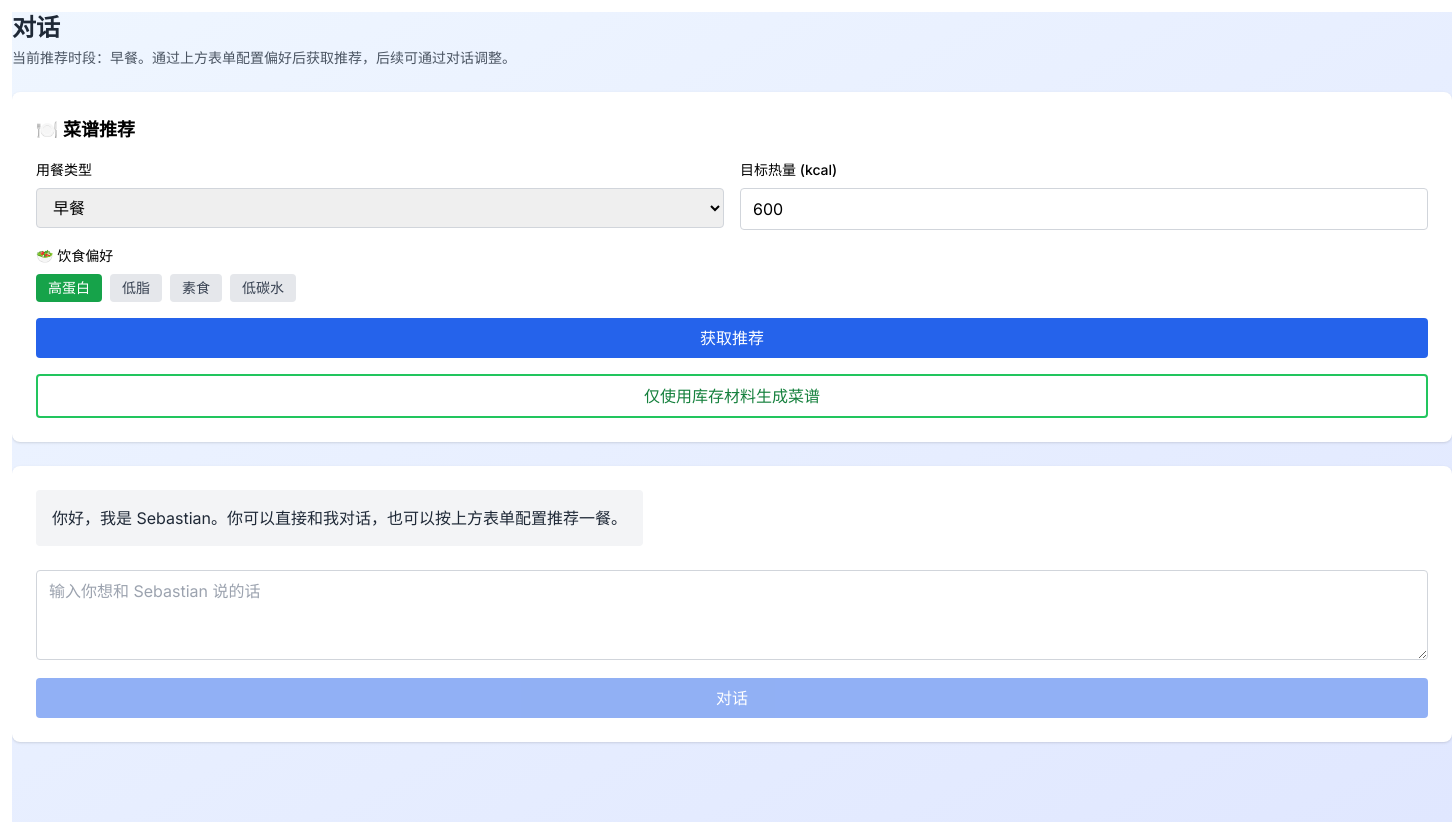
Test case: ConversationPage — 仅使用库存材料生成菜谱 › F3. 生成中按钮显示 loading 文案
Step 1. Click the button "仅使用库存材料生成菜谱" → (732, 396), box [36,374,1428,418]
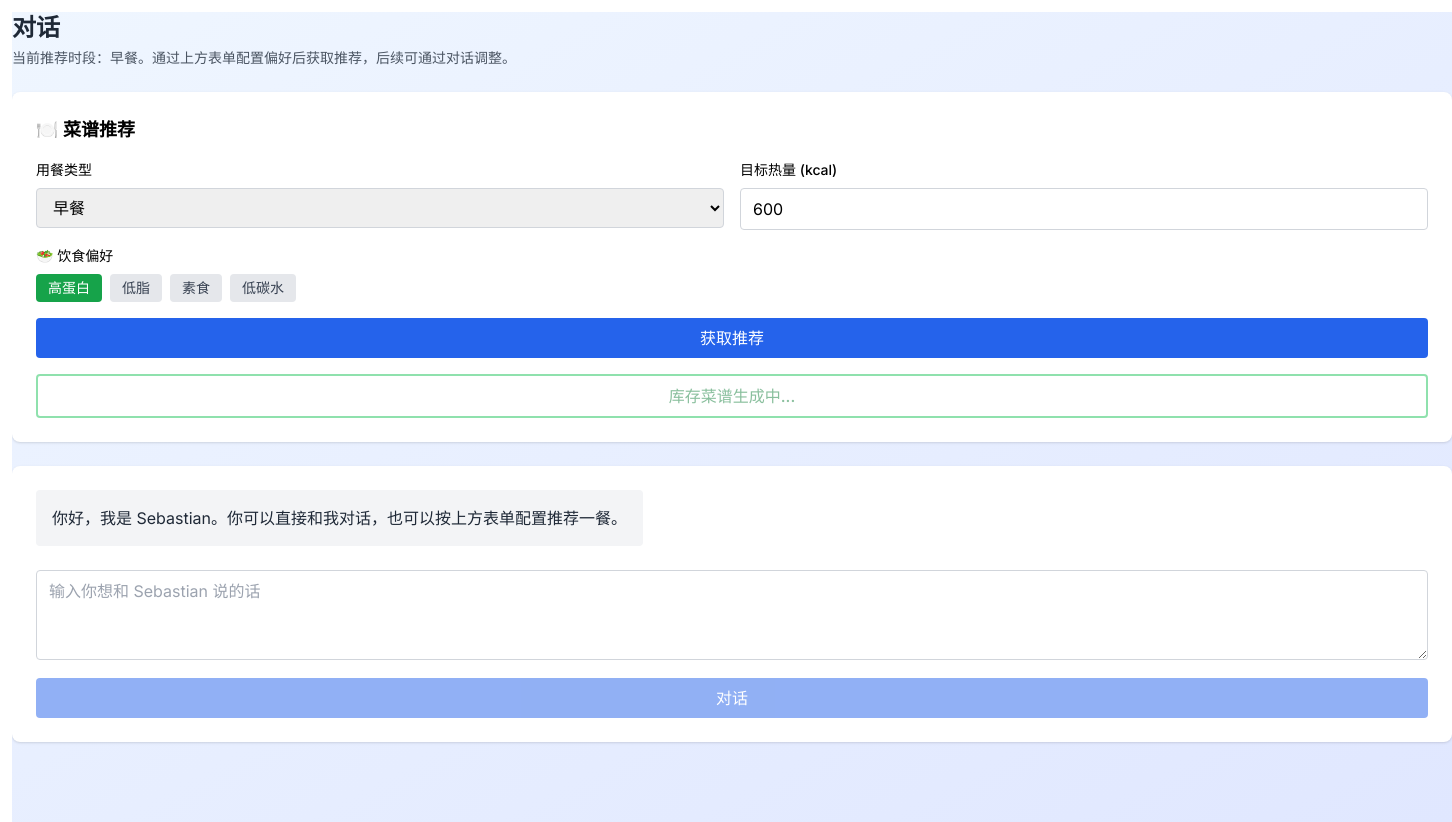
Now the button "库存菜谱生成中..." is shown, box [36,374,1428,418]
